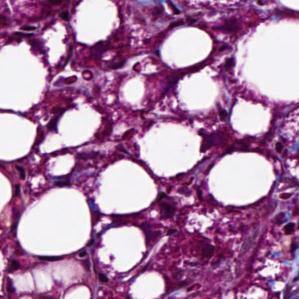inflammation: (156, 185, 195, 232), (209, 6, 243, 54)
